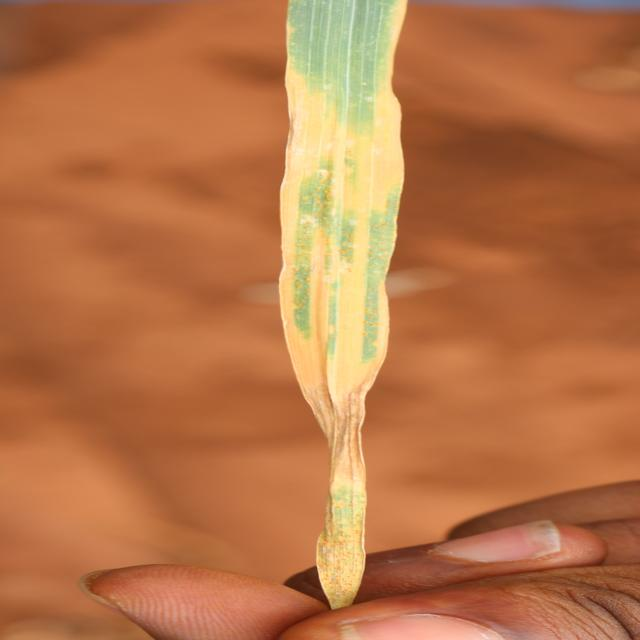Septoria: (275, 1, 408, 610)
